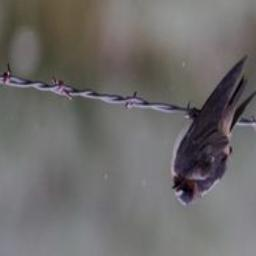Swallow: (168, 54, 256, 209)
